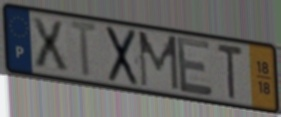E: (174, 34, 215, 98)
M: (136, 29, 181, 93)
T: (68, 18, 102, 80), (216, 42, 245, 102)
X: (29, 15, 71, 73), (105, 24, 140, 89)
